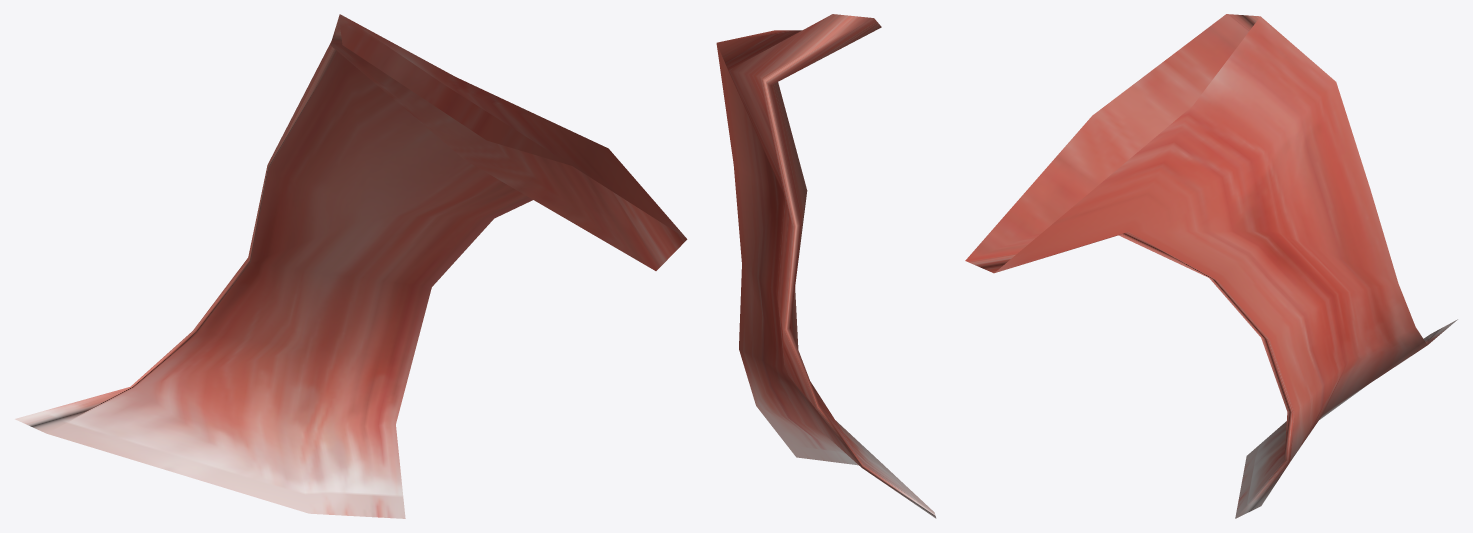
Rendered from Platysma_Muscle_Right.obj.
3 renders of one model, left to right at view 1: azimuth 30°, elevation 25°; view 2: azimuth 150°, elevation 25°; view 3: azimuth 270°, elevation 25°, orthographic. The views are drawn at different scales.
Visible parts, largest first — view 1: Sternothyroideus_Muscle_Right:Sternothyroideus_Muscle_Right_Mesh; view 2: Sternothyroideus_Muscle_Right:Sternothyroideus_Muscle_Right_Mesh; view 3: Sternothyroideus_Muscle_Right:Sternothyroideus_Muscle_Right_Mesh.
Boxes of the visible parts, x1,y1,x2,y2 form: Sternothyroideus_Muscle_Right:Sternothyroideus_Muscle_Right_Mesh: [15, 14, 687, 518]; Sternothyroideus_Muscle_Right:Sternothyroideus_Muscle_Right_Mesh: [716, 14, 936, 518]; Sternothyroideus_Muscle_Right:Sternothyroideus_Muscle_Right_Mesh: [965, 14, 1457, 518].
Bounding box in the file's own units: 1.16 × 1.31 × 1.23.
